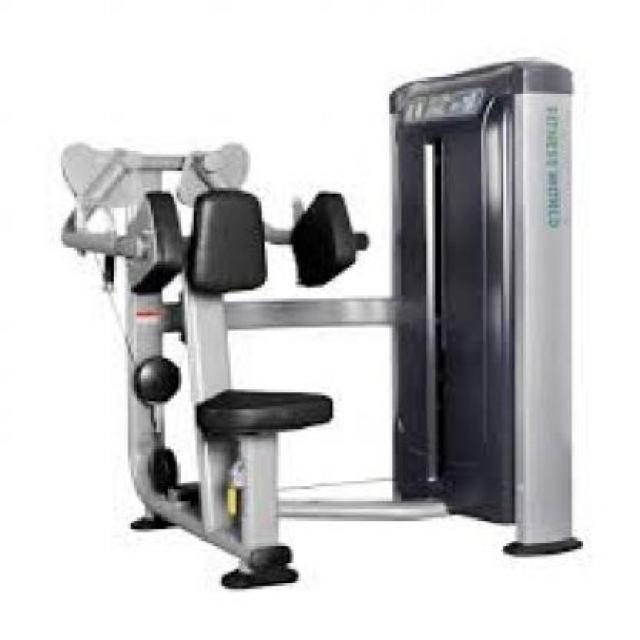lateral raises machine: (57, 60, 588, 591)
